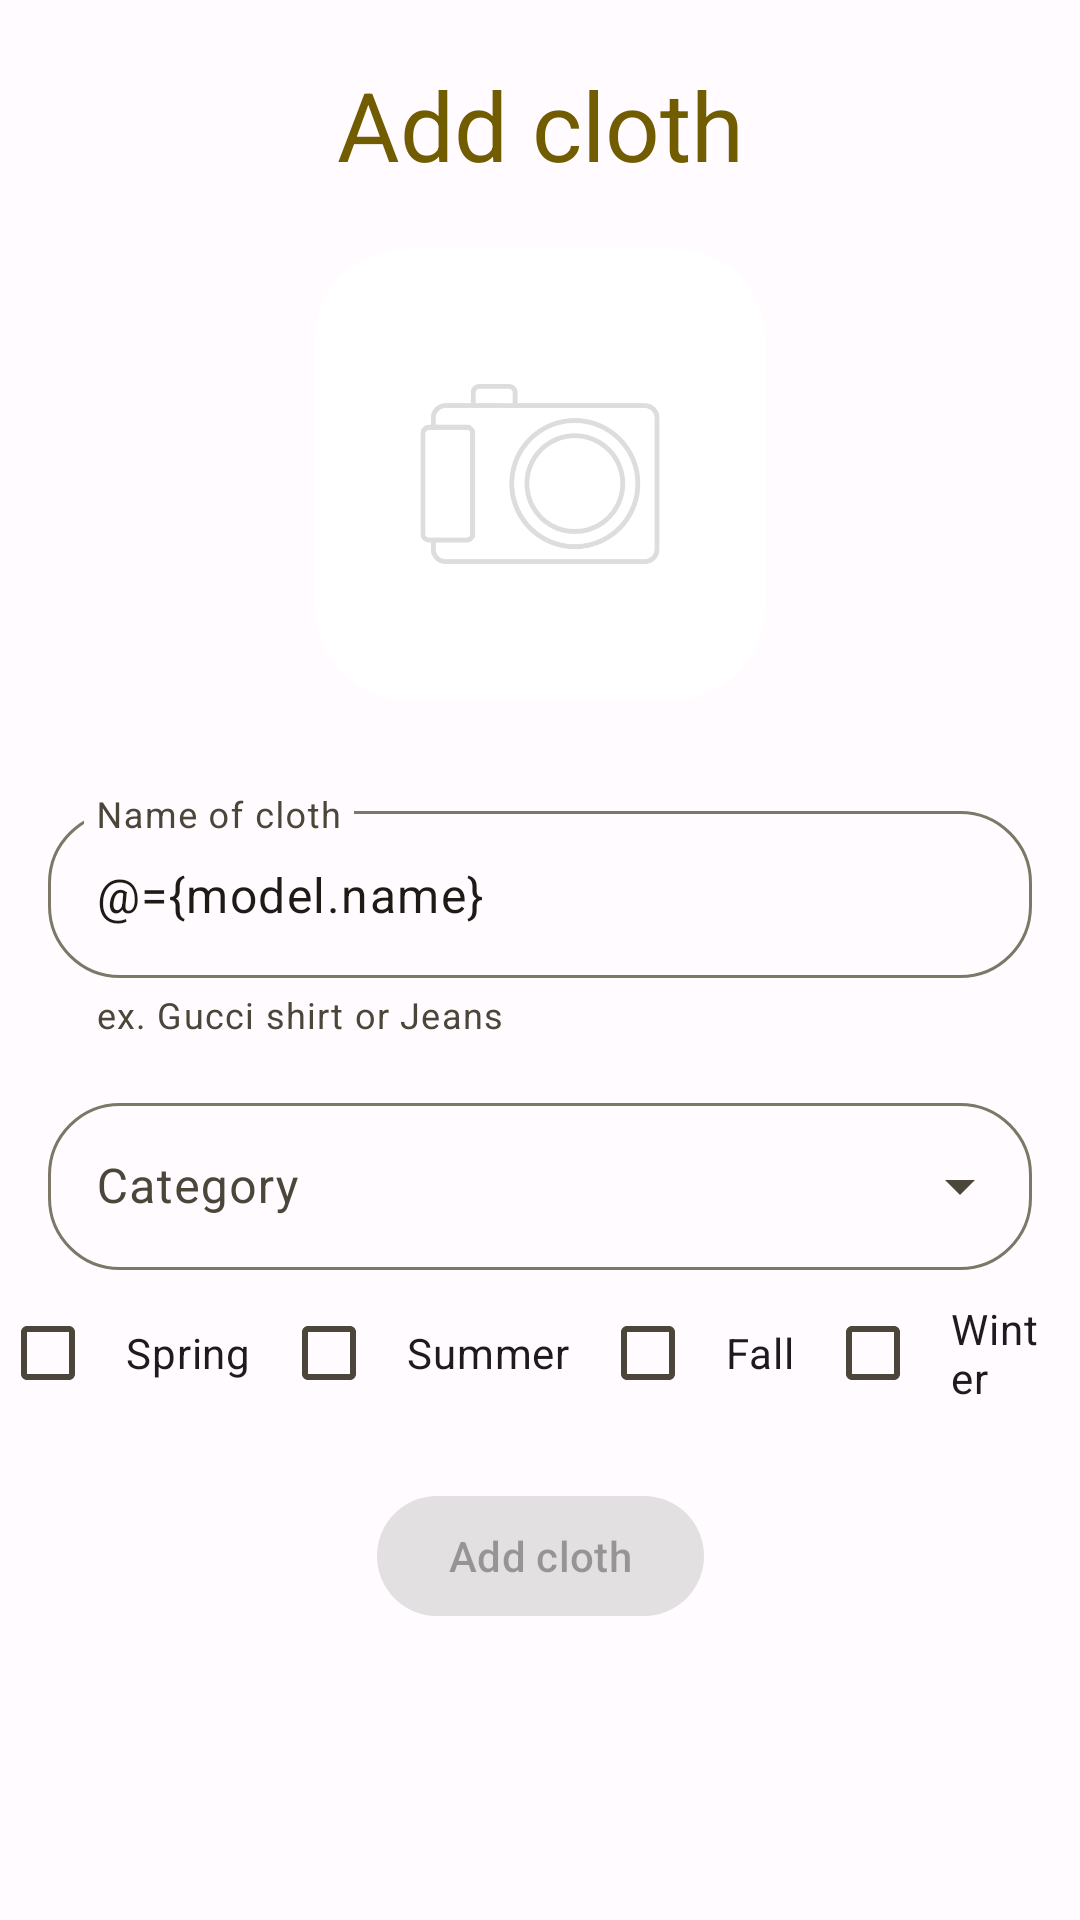

Icons on this 1080 x 1920 Android screen, each with the point to tap as (x,y):
photo: (540,474)
